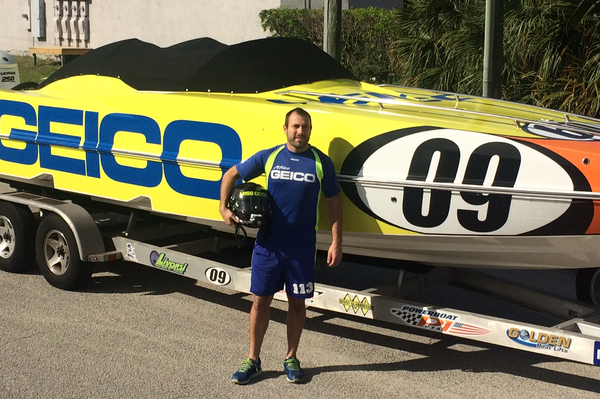geico: (2, 97, 246, 205), (270, 168, 316, 186)
